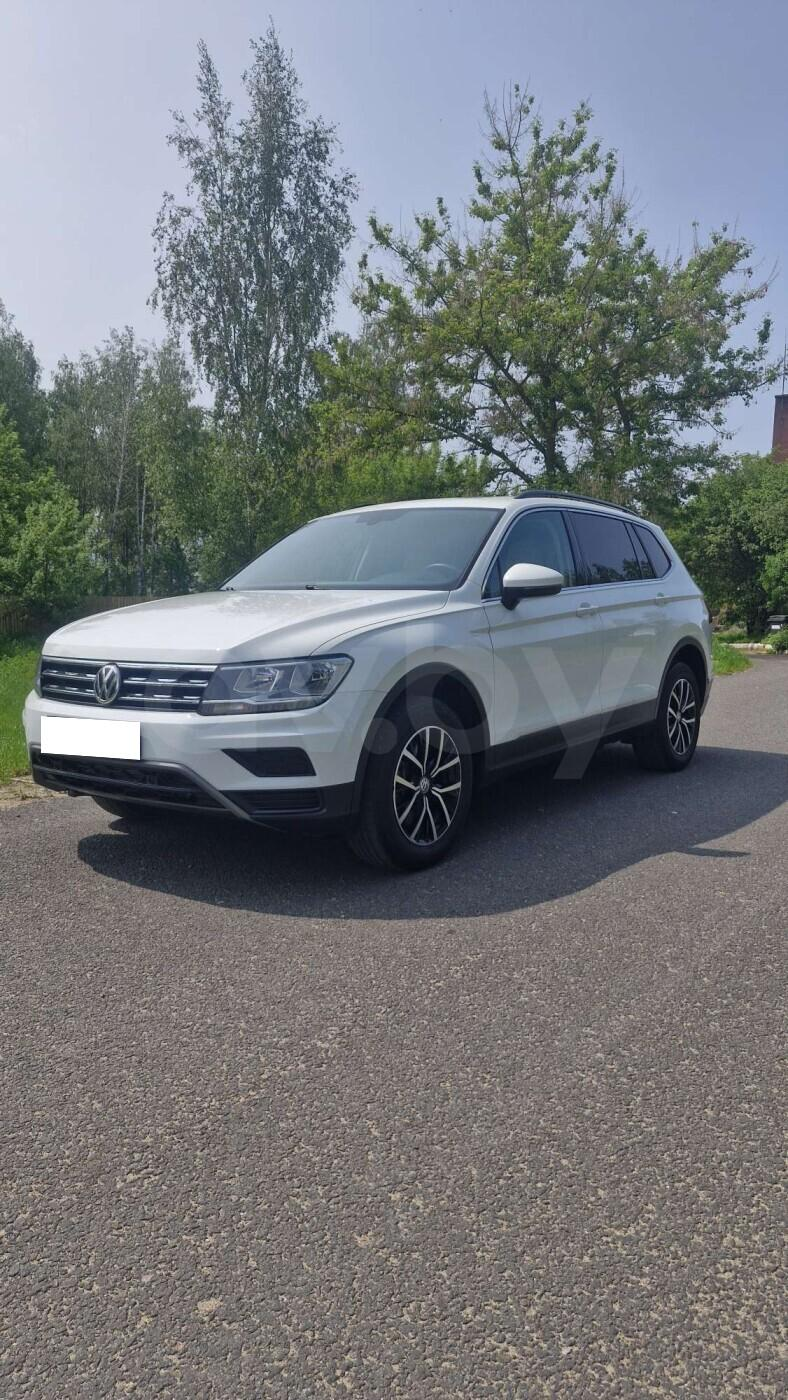Tiguan_2016-2021: (20, 490, 716, 870)
